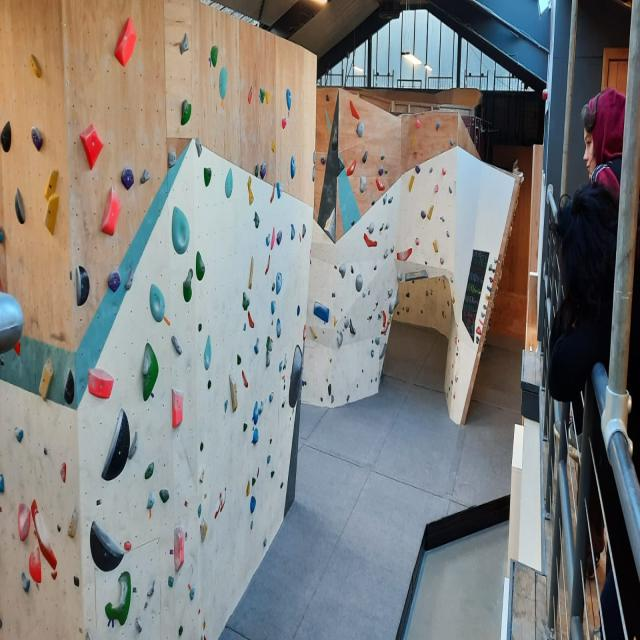Crimp: (213, 482, 228, 522), (176, 30, 195, 56), (361, 229, 378, 250), (348, 95, 361, 122), (142, 460, 156, 484), (344, 158, 358, 180), (396, 246, 414, 263), (158, 487, 172, 507), (374, 175, 386, 198), (263, 251, 272, 279), (246, 309, 256, 333), (241, 366, 250, 391), (426, 201, 436, 223), (407, 171, 416, 195), (270, 222, 276, 254), (432, 237, 440, 257)
Jug: (105, 564, 142, 632), (180, 95, 200, 126), (27, 126, 46, 156), (119, 162, 136, 194), (182, 266, 192, 308), (197, 247, 205, 285), (210, 41, 218, 70), (204, 164, 212, 188), (276, 228, 283, 248)
Pinch: (42, 159, 61, 241), (224, 361, 240, 419), (37, 356, 55, 406), (25, 48, 47, 78), (66, 504, 80, 542), (247, 254, 257, 291), (247, 171, 254, 210), (197, 462, 206, 486)
Pocket: (283, 82, 294, 114), (288, 152, 298, 182), (274, 270, 284, 298)
Sloper: (100, 404, 133, 488), (30, 497, 59, 578), (87, 517, 126, 576), (0, 291, 26, 357), (79, 119, 108, 174), (138, 339, 162, 405), (113, 12, 139, 72), (169, 203, 194, 261), (286, 337, 304, 414), (99, 184, 122, 241), (86, 366, 117, 404), (147, 282, 169, 328), (595, 163, 620, 200), (73, 262, 90, 311), (172, 519, 186, 575), (27, 546, 44, 587), (16, 498, 30, 545), (170, 385, 183, 435), (312, 300, 336, 322), (223, 166, 234, 198), (219, 64, 228, 100), (204, 328, 211, 371), (354, 274, 364, 294), (338, 262, 348, 282), (336, 330, 344, 352)
